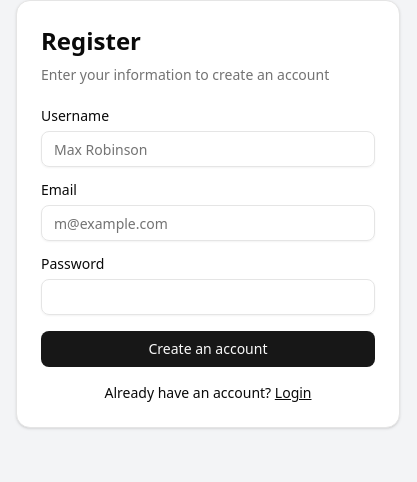
Test: The Register Page › should show an error if the email is already registered
# The user types in an email that our stunt double knows is a duplicate.
Type "anotheruser" into the field labelled "Username" at (208, 149), box [41,131,375,167]
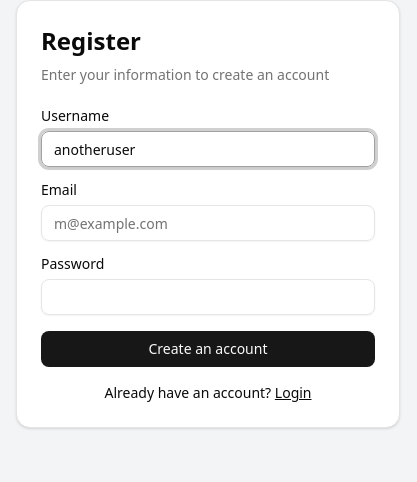
Type "duplicate@example.com" into the field labelled "Email" at (208, 223), box [41,205,375,241]
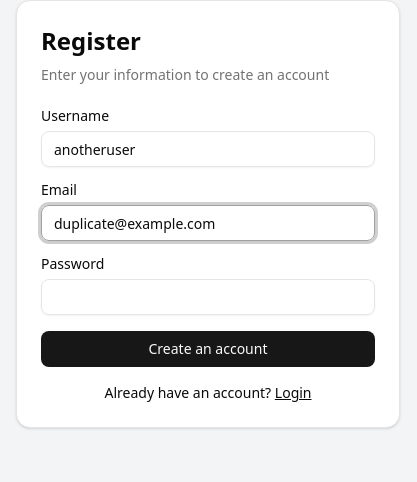
Type "password123" into the password field labelled "Password" at (208, 297), box [41,279,375,315]
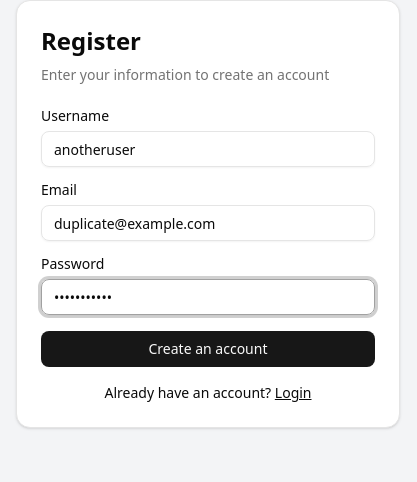
# The robot clicks the button.
Click the button "Create an account" at (208, 349), box [41,331,375,367]
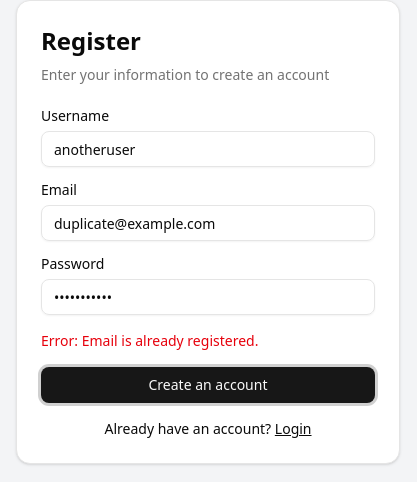
Expected: the text "Error: Email is already registered." is shown, [41,331,258,350]
